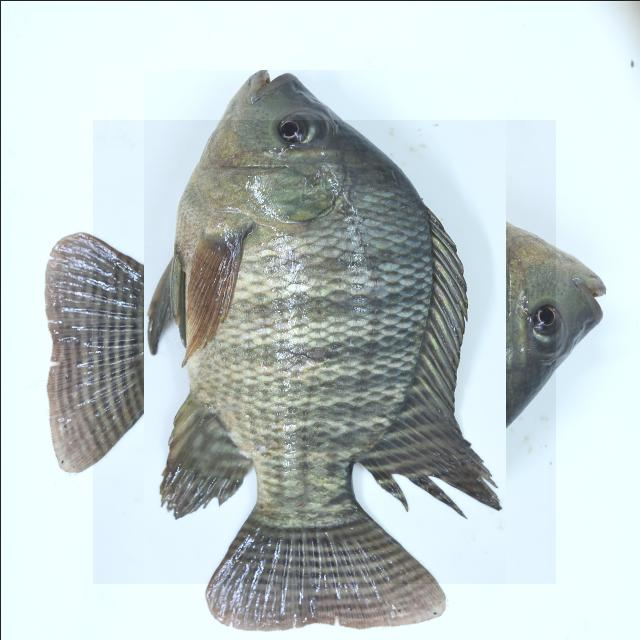Healthy Fish: (92, 119, 555, 583)
